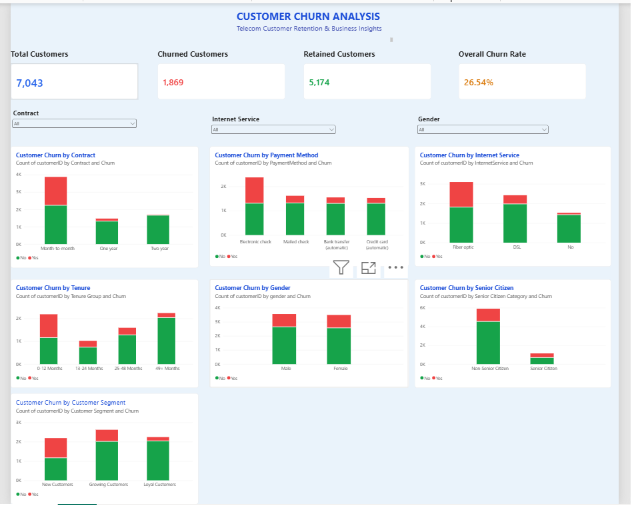

The page's visual inventory and layout, read from the dashboard file:
{"tool":"powerbi","page":{"name":"Customer Churn Overview","canvas":[1920,1580],"ordinal":0},"visuals":[{"type":"textbox","title":"CUSTOMER CHURN ANALYSIS","box":[712.5,17.5,492.5,102.5],"z":0},{"type":"cardVisual","title":"Total Customers","fields":{"Data":["TelcoCustomerChurn.Total Customers1"]},"box":[0,142.5,402,161.3],"z":1000},{"type":"cardVisual","title":"Churned Customers","fields":{"Data":["TelcoCustomerChurn.Churned Customers"]},"box":[465,142.5,402,161],"z":2000},{"type":"cardVisual","title":"Retained Customers","fields":{"Data":["TelcoCustomerChurn.Retained Customers"]},"box":[925,142.5,402,161],"z":3000},{"type":"cardVisual","title":"Overall Churn Rate","fields":{"Data":["TelcoCustomerChurn.Overall Churn Rate"]},"box":[1415,142.5,402,161],"z":4000},{"type":"columnChart","title":"Customer Churn by Contract","fields":{"Category":["TelcoCustomerChurn.Contract"],"Series":["TelcoCustomerChurn.Churn"],"Y":["CountNonNull(TelcoCustomerChurn.customerID)"]},"box":[0,452.5,592.8,383.9],"z":5000},{"type":"columnChart","title":"Customer Churn by Payment Method","fields":{"Category":["TelcoCustomerChurn.PaymentMethod"],"Series":["TelcoCustomerChurn.Churn"],"Y":["CountNonNull(TelcoCustomerChurn.customerID)"]},"box":[627.5,452.5,629.2,379.3],"z":6000},{"type":"columnChart","title":"Customer Churn by Internet Service","fields":{"Category":["TelcoCustomerChurn.InternetService"],"Series":["TelcoCustomerChurn.Churn"],"Y":["CountNonNull(TelcoCustomerChurn.customerID)"]},"box":[1275,452.5,620.1,379.3],"z":7000},{"type":"columnChart","title":"Customer Churn by Gender","fields":{"Category":["TelcoCustomerChurn.gender"],"Series":["TelcoCustomerChurn.Churn"],"Y":["CountNonNull(TelcoCustomerChurn.customerID)"]},"box":[627.5,870,629.2,343],"z":8000},{"type":"columnChart","title":"Customer Churn by Tenure","fields":{"Category":["TelcoCustomerChurn.Tenure Group"],"Series":["TelcoCustomerChurn.Churn"],"Y":["CountNonNull(TelcoCustomerChurn.customerID)"]},"box":[0,870,592.8,343],"z":9000},{"type":"columnChart","title":"Customer Churn by Senior Citizen","fields":{"Category":["TelcoCustomerChurn.Senior Citizen Category"],"Series":["TelcoCustomerChurn.Churn"],"Y":["CountNonNull(TelcoCustomerChurn.customerID)"]},"box":[1275,870,620.1,343],"z":10000},{"type":"columnChart","title":"Customer Churn by Customer Segment","fields":{"Category":["TelcoCustomerChurn.Customer Segment"],"Series":["TelcoCustomerChurn.Churn"],"Y":["CountNonNull(TelcoCustomerChurn.customerID)"]},"box":[0,1230,592.5,350],"z":11000},{"type":"slicer","fields":{"Values":["TelcoCustomerChurn.Contract"]},"box":[0,330,402.5,95],"z":12000},{"type":"slicer","fields":{"Values":["TelcoCustomerChurn.InternetService"]},"box":[626.7,350,402.5,102.5],"z":13000},{"type":"slicer","fields":{"Values":["TelcoCustomerChurn.gender"]},"box":[1276.7,350,423.3,76.7],"z":14000}]}

Visuals, with their boxes in screenshot pixels (x1, y1, x2, y2), scaled from the page's 1920x1580 canvas onto the 631x505 screenshot:
"CUSTOMER CHURN ANALYSIS" textbox: l=234, t=6, r=396, b=38
"Total Customers" cardVisual: l=0, t=46, r=132, b=97
"Churned Customers" cardVisual: l=153, t=46, r=285, b=97
"Retained Customers" cardVisual: l=304, t=46, r=436, b=97
"Overall Churn Rate" cardVisual: l=465, t=46, r=597, b=97
"Customer Churn by Contract" columnChart: l=0, t=145, r=195, b=267
"Customer Churn by Payment Method" columnChart: l=206, t=145, r=413, b=266
"Customer Churn by Internet Service" columnChart: l=419, t=145, r=623, b=266
"Customer Churn by Gender" columnChart: l=206, t=278, r=413, b=388
"Customer Churn by Tenure" columnChart: l=0, t=278, r=195, b=388
"Customer Churn by Senior Citizen" columnChart: l=419, t=278, r=623, b=388
"Customer Churn by Customer Segment" columnChart: l=0, t=393, r=195, b=504
slicer - TelcoCustomerChurn.Contract: l=0, t=105, r=132, b=136
slicer - TelcoCustomerChurn.InternetService: l=206, t=112, r=338, b=145
slicer - TelcoCustomerChurn.gender: l=420, t=112, r=559, b=136
